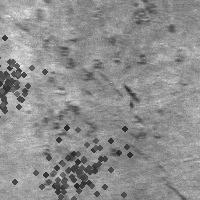rolled-in_scale: (33, 3, 157, 193), (39, 117, 139, 200), (3, 127, 115, 200), (0, 42, 46, 124), (128, 1, 170, 45)
